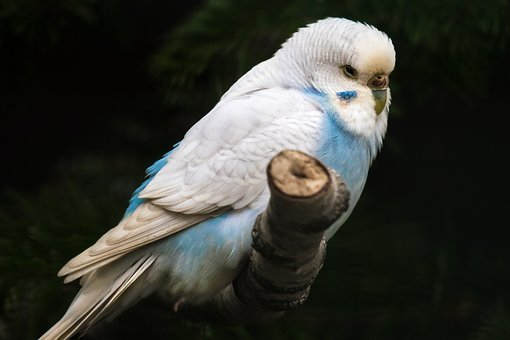budgie: (38, 18, 397, 340)
